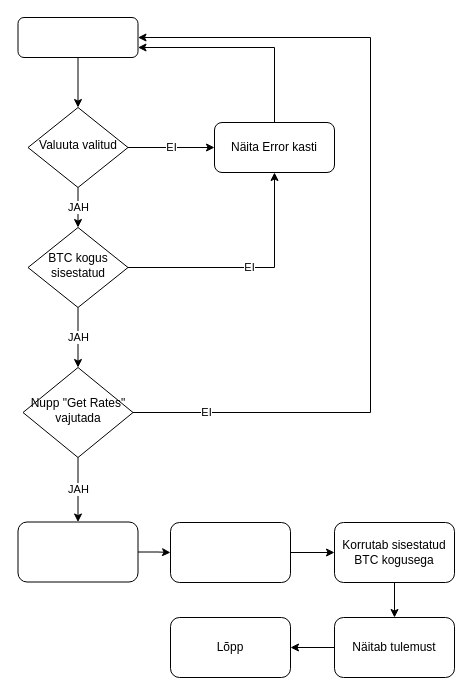
Some shapes in this 472 by 695 pixel diagram are drawn without their labels. The centre of each missing label's shape, as x and y in pixels:
"Alusta" goes at (x=77, y=37).
"Leiab hetkese BTC hinna" goes at (x=77, y=551).
"Paneb hinna valitud valuutasse" goes at (x=230, y=552).
